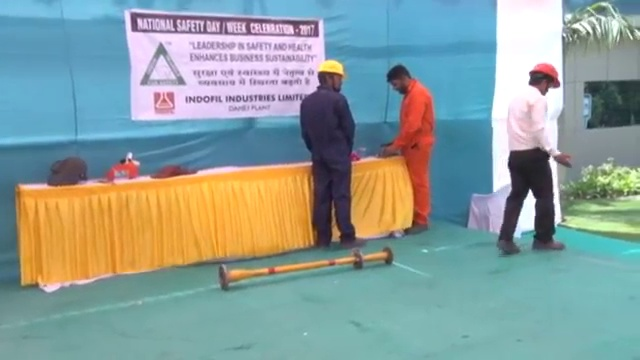helmet: (529, 60, 561, 88), (315, 59, 345, 76)
helmet_off: (386, 64, 418, 98)
helmet_on: (528, 61, 561, 96), (314, 58, 346, 94)
person: (496, 60, 574, 257), (298, 58, 367, 246), (382, 63, 436, 235)
